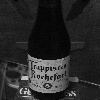beer: (26, 1, 72, 97)
